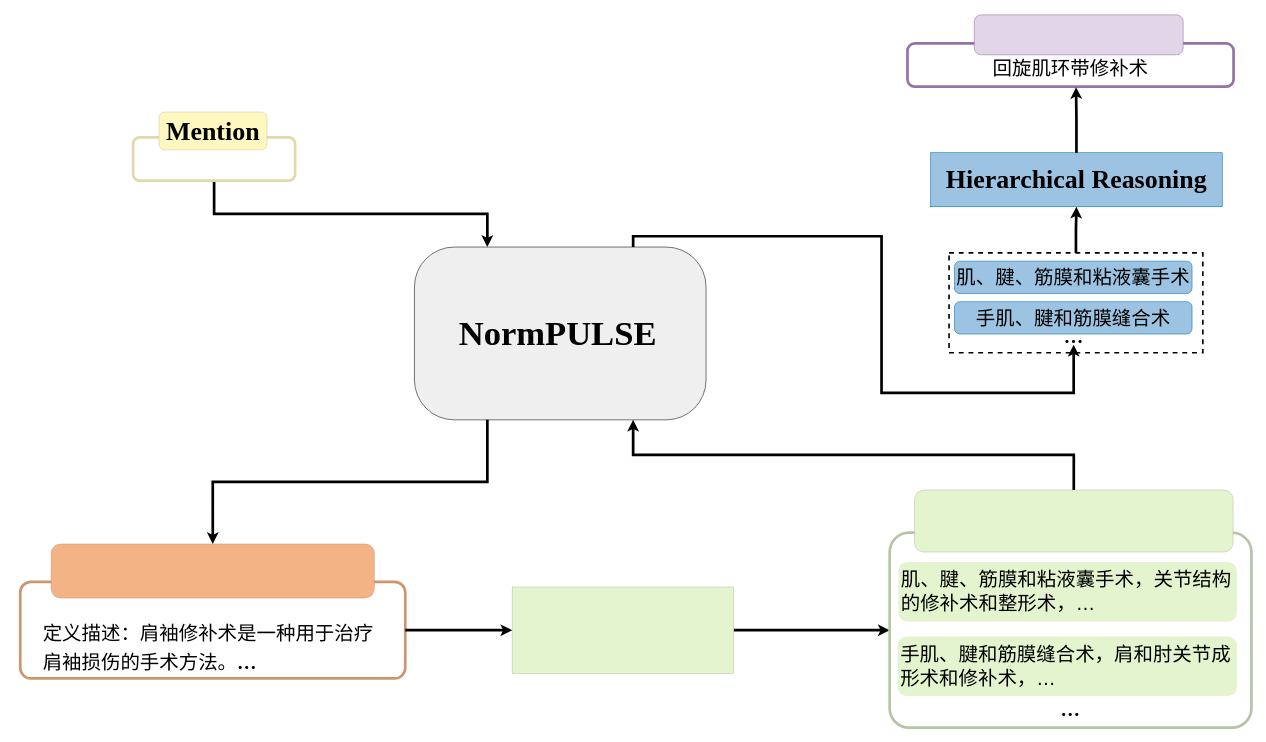
Some shapes in this 1266 by 742 pixel diagram are drawn without their labels. Each missing label, with the centre of its shape:
"Hierarchical Candidates" goes at [1073,521].
"Knowledge Card" goes at [212,571].
"Knowledge Cards Retrival" goes at [623,629].
"Standard Terms" goes at [1078,34].
"肩袖修补术" goes at [213,159].
